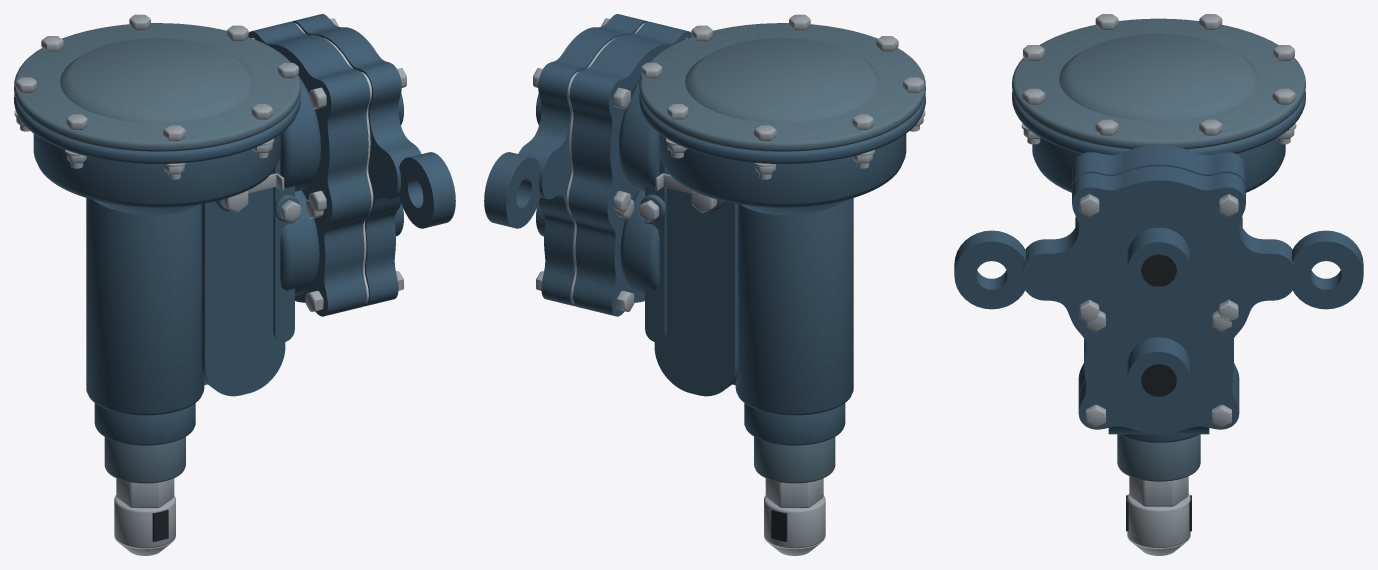
The model's file is autoregime_265a1.glb.
3 renders of one model, left to right at view 1: azimuth 30°, elevation 25°; view 2: azimuth 150°, elevation 25°; view 3: azimuth 270°, elevation 25°, orthographic. The views are drawn at different scales.
Visible parts, largest first — view 1: Авторежим_265А-1; view 2: Авторежим_265А-1; view 3: Авторежим_265А-1.
Boxes of the visible parts, <box> form: Авторежим_265А-1: <box>14,14,455,555</box>; Авторежим_265А-1: <box>484,14,925,555</box>; Авторежим_265А-1: <box>954,14,1363,555</box>.
Size of the model in its own units: 0.292 by 0.371 by 0.284.
